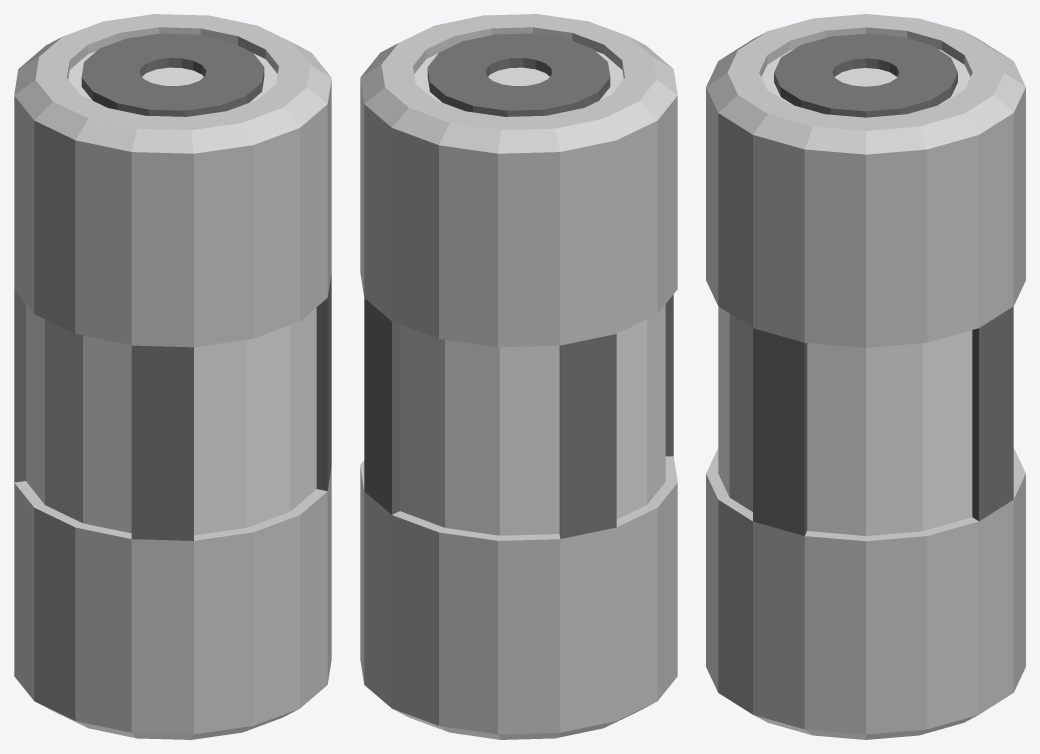
File: Battery.fbx
The picture shows the model from 3 angles, left to right: view 1: azimuth 30°, elevation 25°; view 2: azimuth 150°, elevation 25°; view 3: azimuth 270°, elevation 25°; orthographic projection.
Parts seen in each view (by area): view 1: Cylinder; view 2: Cylinder; view 3: Cylinder.
Part boxes in pixels (x1,y1,x2,y2): Cylinder: (14,14,331,739); Cylinder: (360,14,677,739); Cylinder: (706,14,1025,739).
Size of the model in its own units: 40 by 84 by 40.
